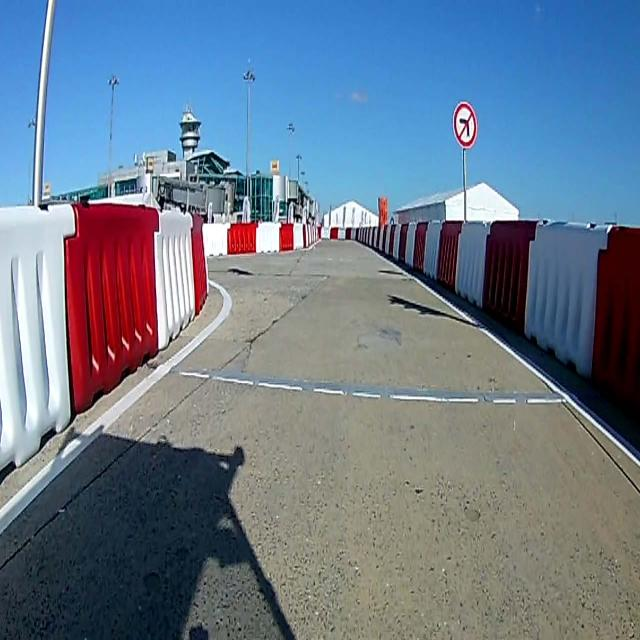soladonulmez: (452, 98, 478, 148)
